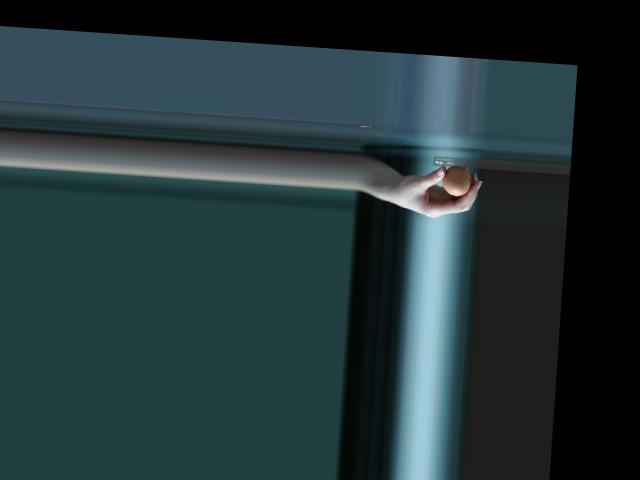egg: (441, 163, 473, 197)
